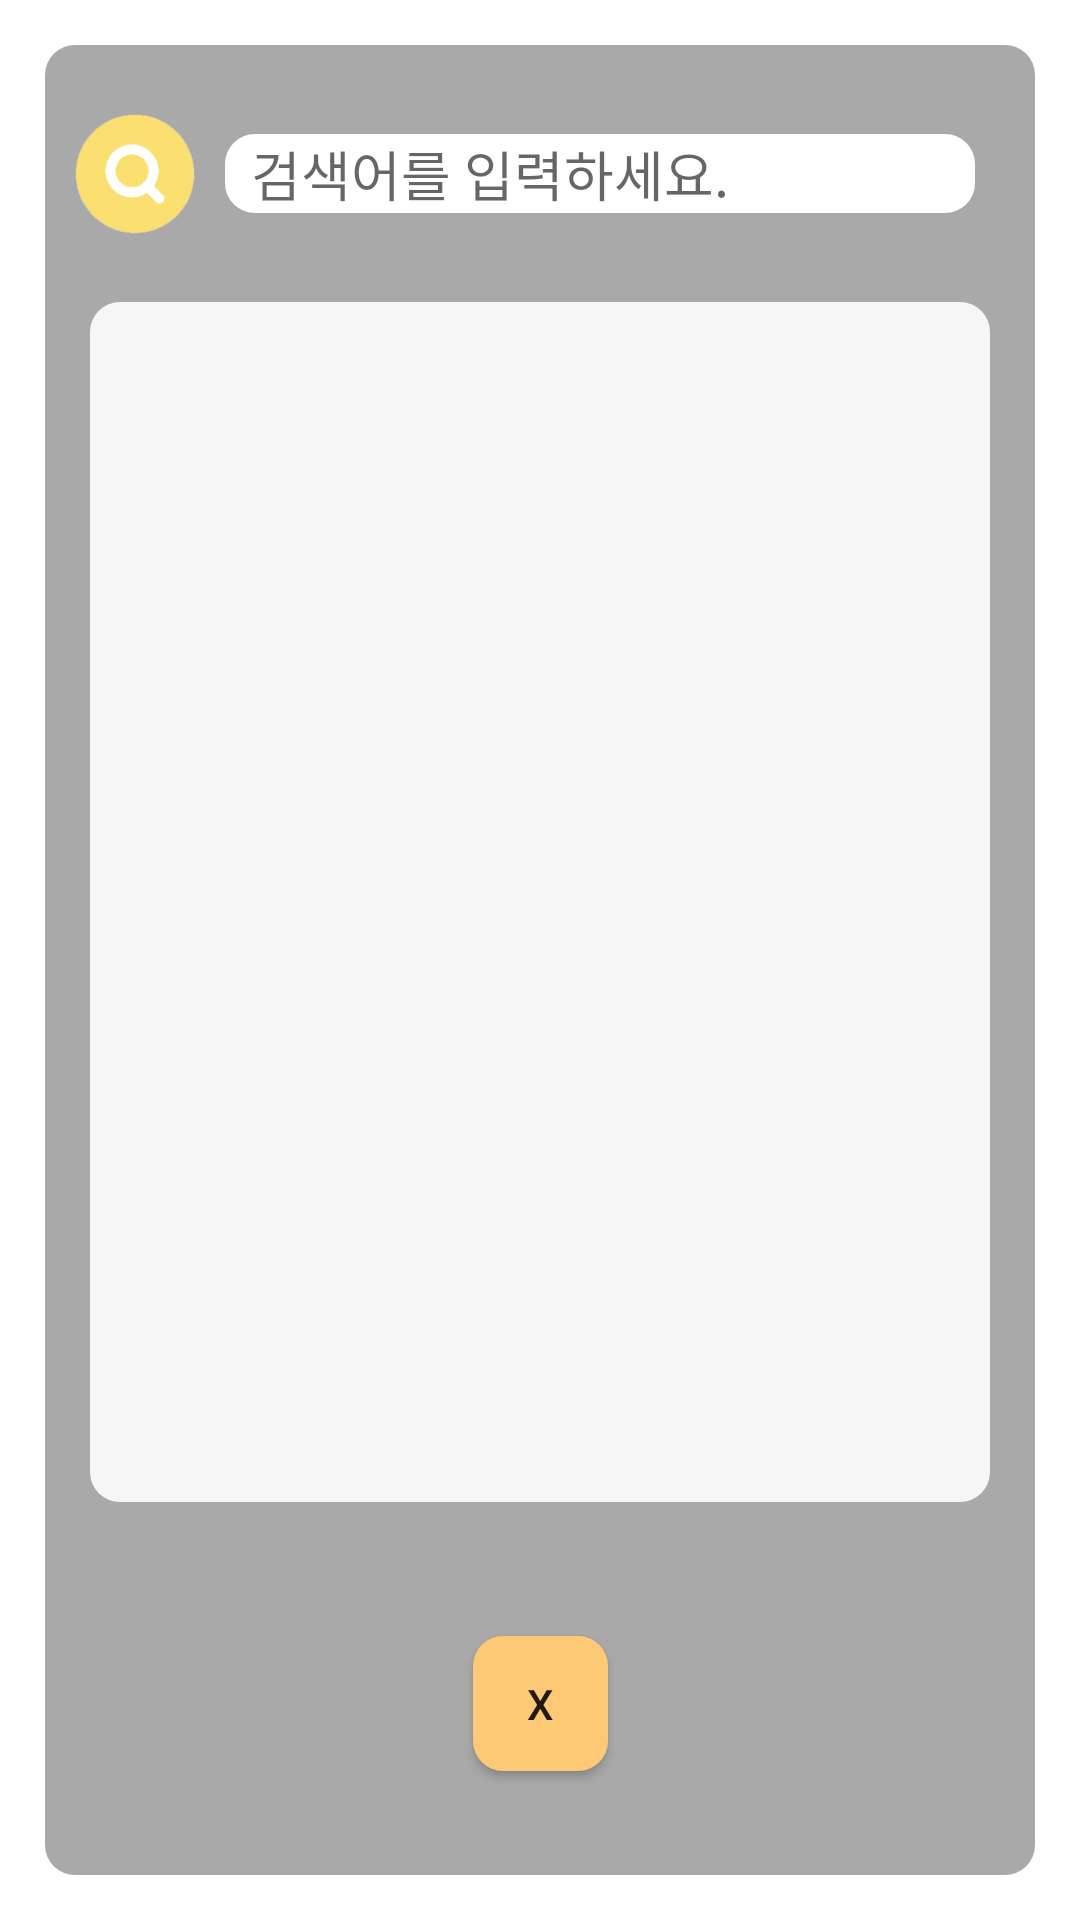

Where icons sit on this 1080px×1920px app screen, as (x1, y1, x2, y2):
search: (76, 115, 194, 233)
